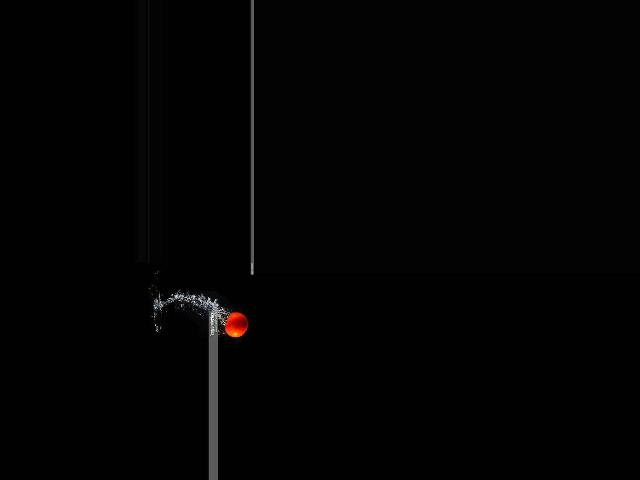tomato: (224, 312, 247, 337)
